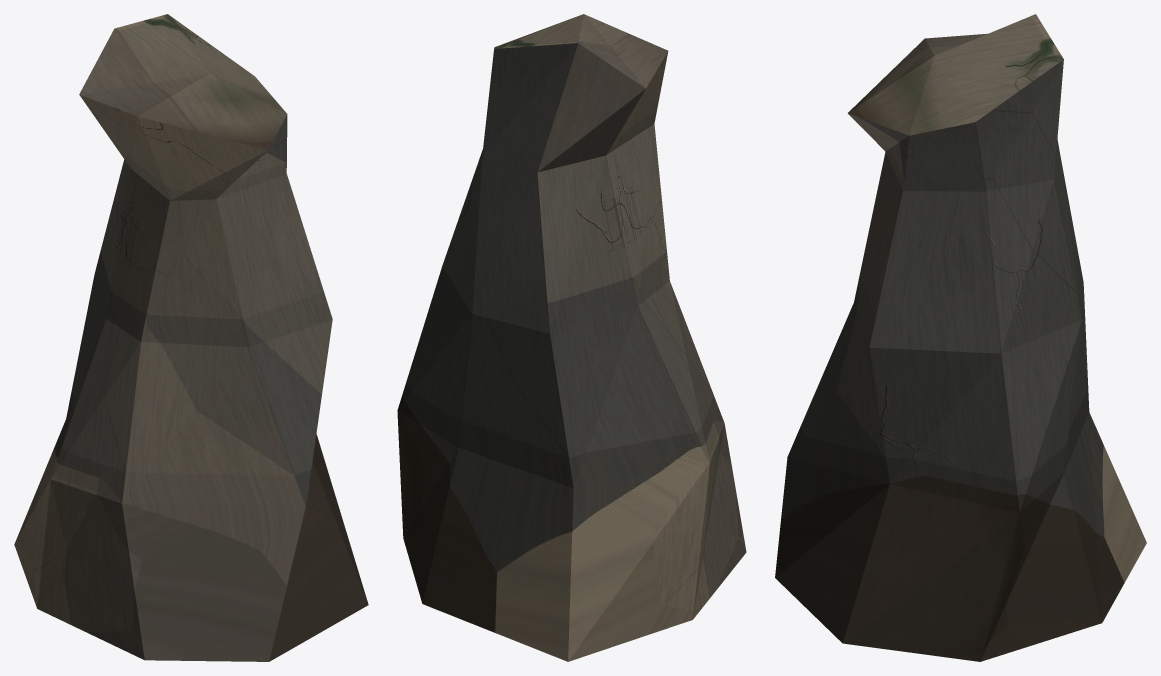
File: monolito-01.glb
3 renders of one model, left to right at view 1: azimuth 30°, elevation 25°; view 2: azimuth 150°, elevation 25°; view 3: azimuth 270°, elevation 25°, orthographic. The views are drawn at different scales.
Parts seen in each view (by area): view 1: monolito-01-pp; view 2: monolito-01-pp; view 3: monolito-01-pp.
Part boxes in pixels (x1,y1,x2,y2): monolito-01-pp: (14,14,368,661); monolito-01-pp: (397,14,746,661); monolito-01-pp: (775,14,1146,661).
Bounding box in the file's own units: 1.46 × 2.61 × 1.6.
1 material, 1 textured.
